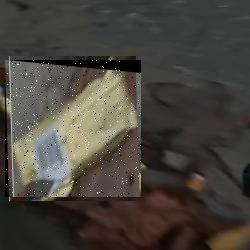plastic: (5, 60, 141, 197)
